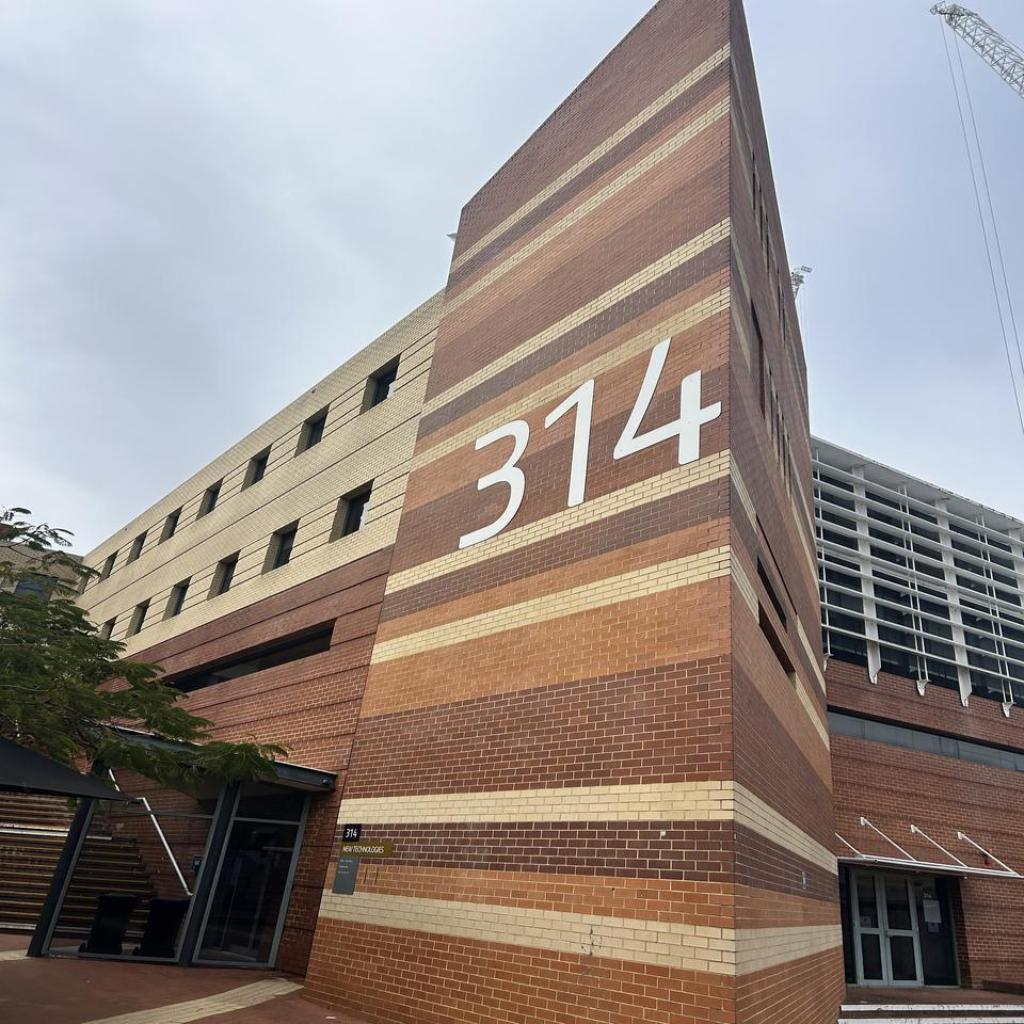BuildingCodes: (456, 333, 724, 551)
